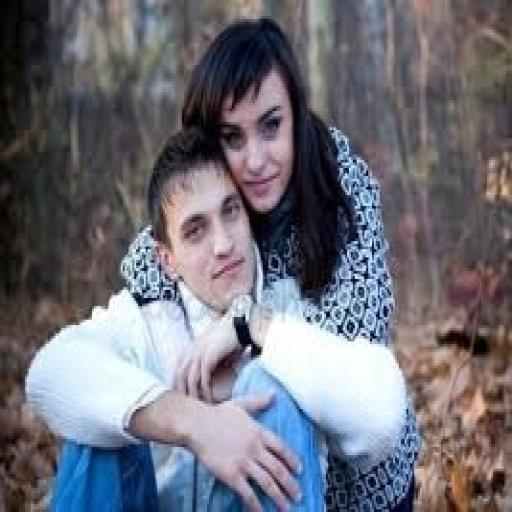hugging: (23, 14, 422, 509)
